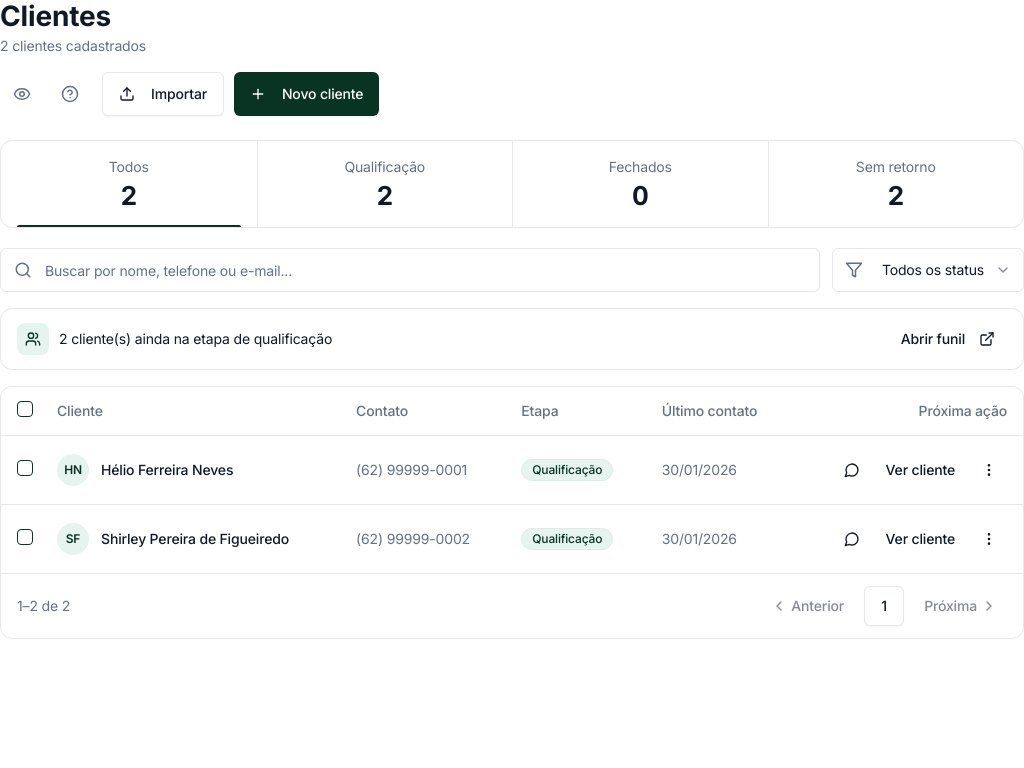
Test: sem contrato, não assusta: o botão continua só "Excluir"
Click the checkbox named "Selecionar Shirley Pereira de Figueiredo" at x=25, y=537, box [17,529,33,545]
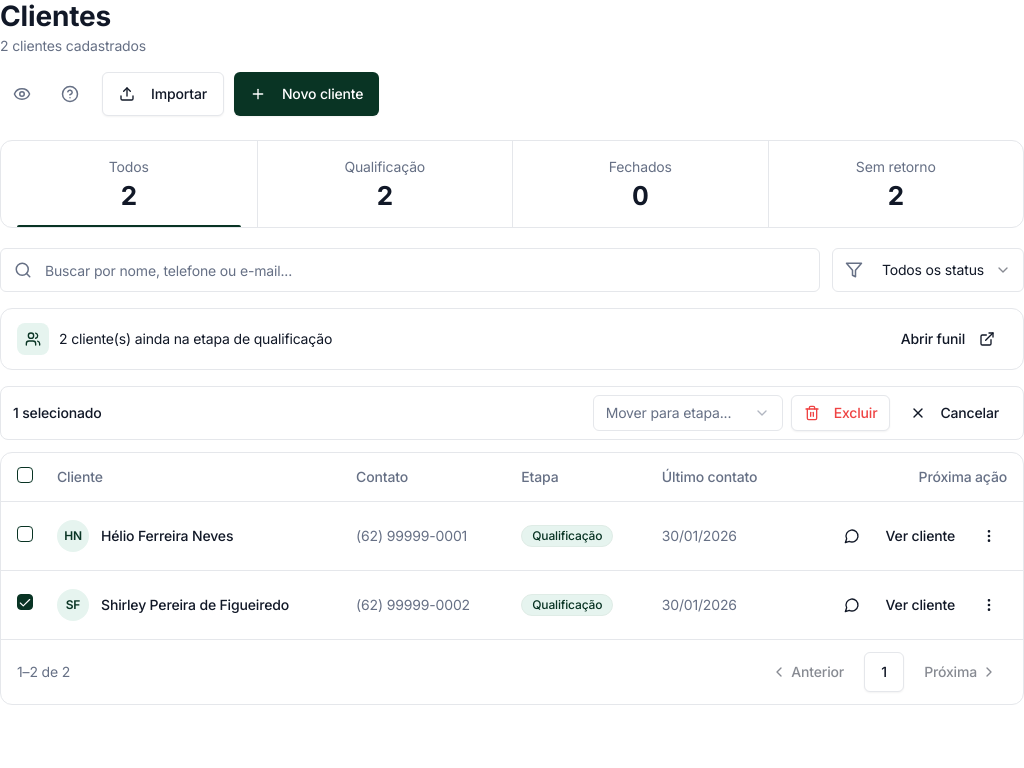
Click the button "Excluir" at x=840, y=413, box [791,395,890,431]
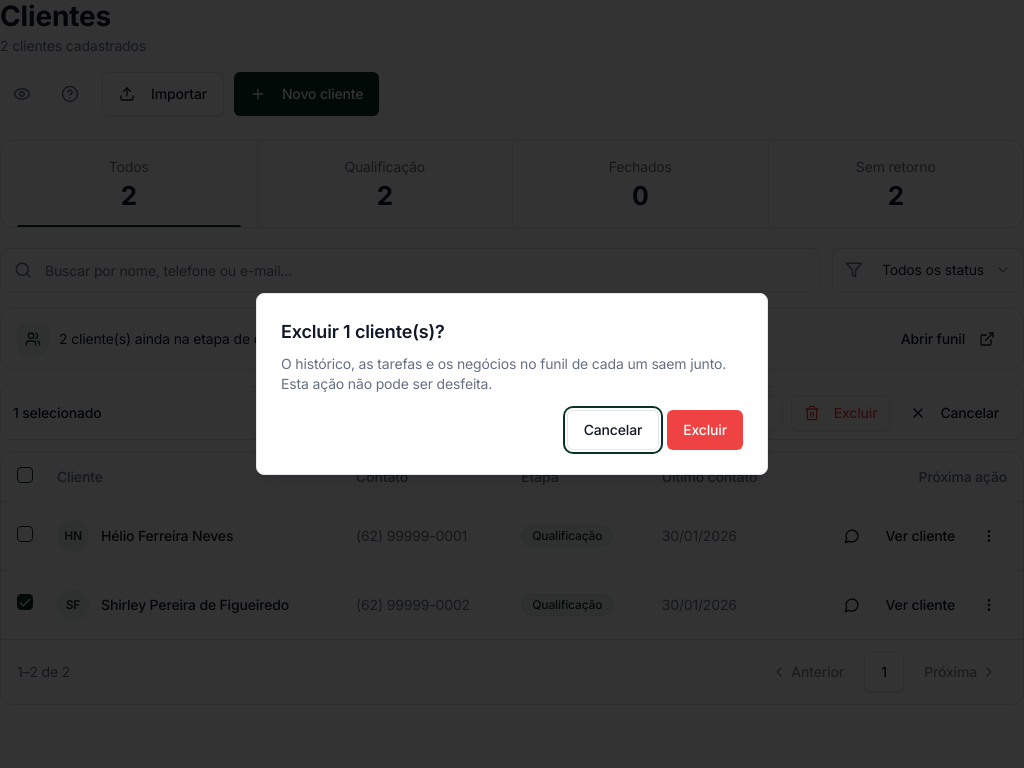
Result: the button "Excluir" is enabled at [667,410,743,450]
